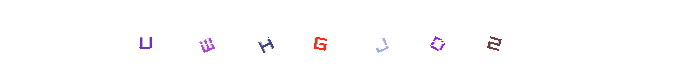2: (454, 0, 534, 80)
D: (302, 0, 382, 80)
G: (268, 0, 348, 80)
H: (267, 0, 347, 80)
J: (280, 0, 360, 80)
U: (105, 0, 185, 80)
W: (226, 0, 306, 80)
